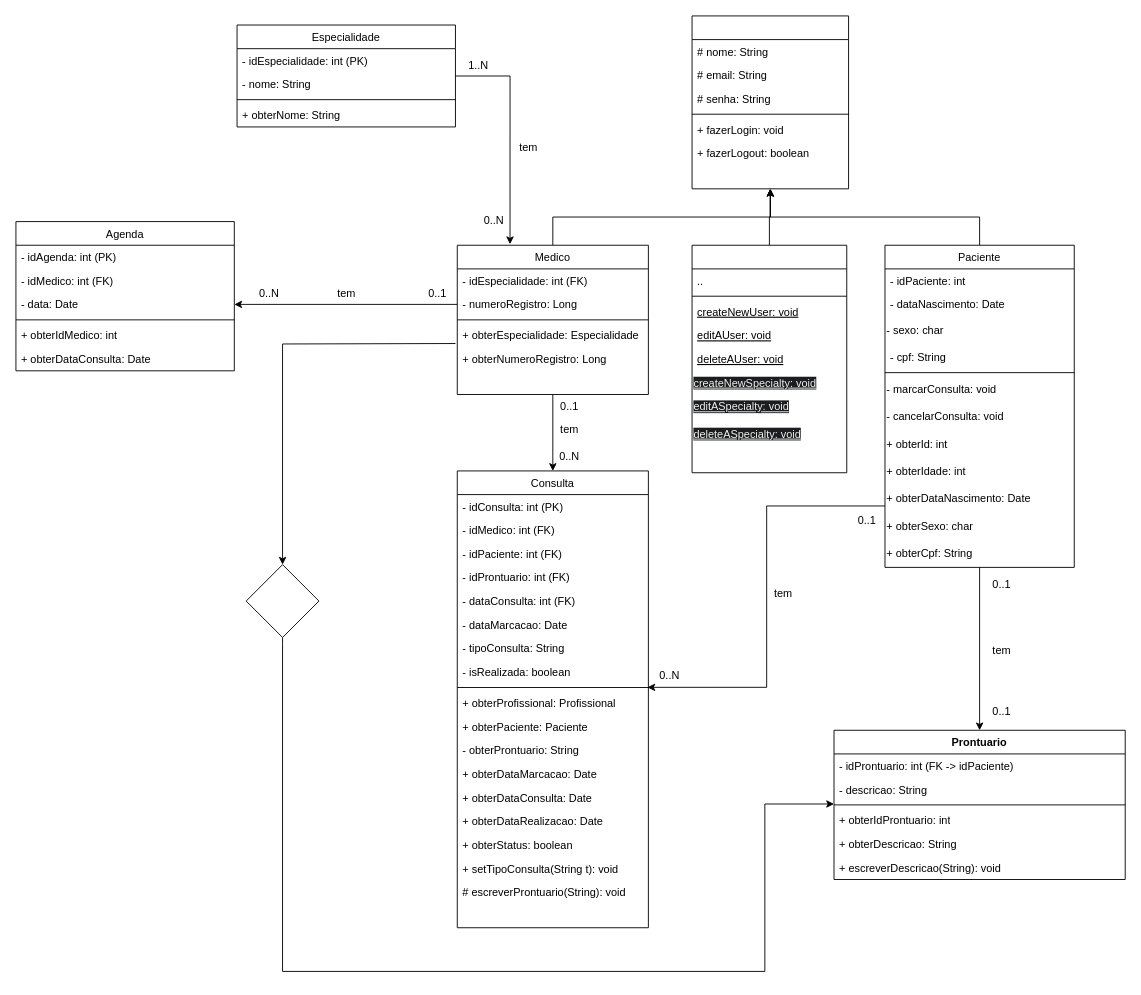
Some shapes in this 1141 by 995 pixel diagram are drawn without their labels. Each missing label, with the box of its shape:
Admin: (691, 244, 847, 473)
escreve: (245, 564, 319, 637)
Usuario: (691, 15, 849, 189)
